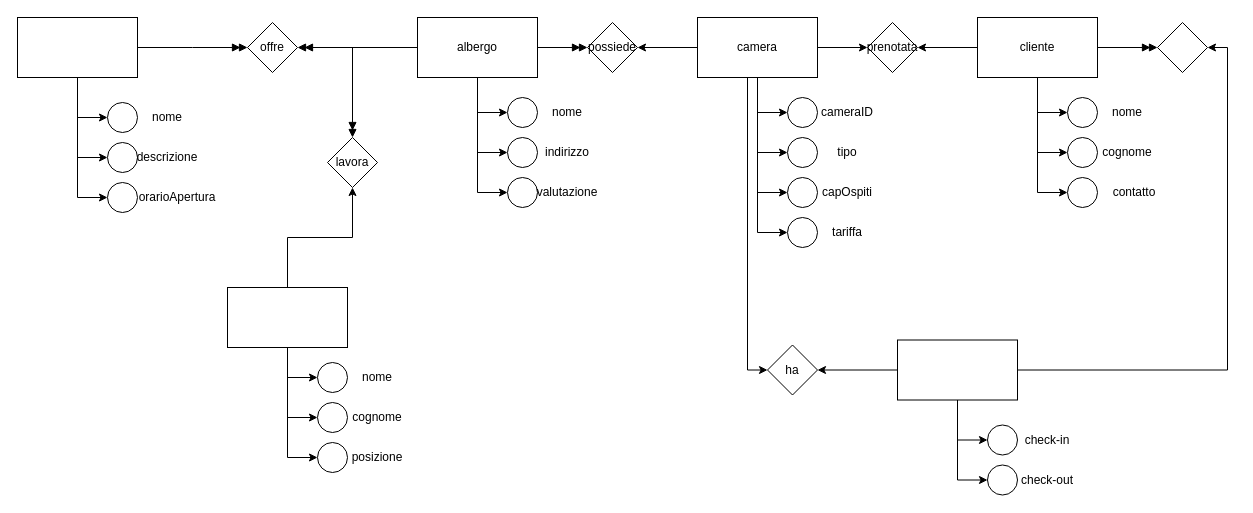
This 1253x513 diagram has some shape labels left out. Here are the shapes that lost their labels. From the top down, the centre of each, then its label:
point 77,47: facilities
point 1182,47: effettua
point 287,317: dipendente
point 957,369: Prenotazione
